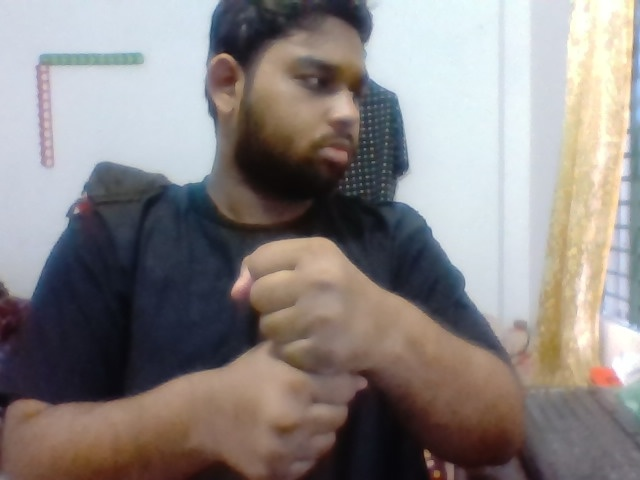G: (213, 235, 409, 475)
